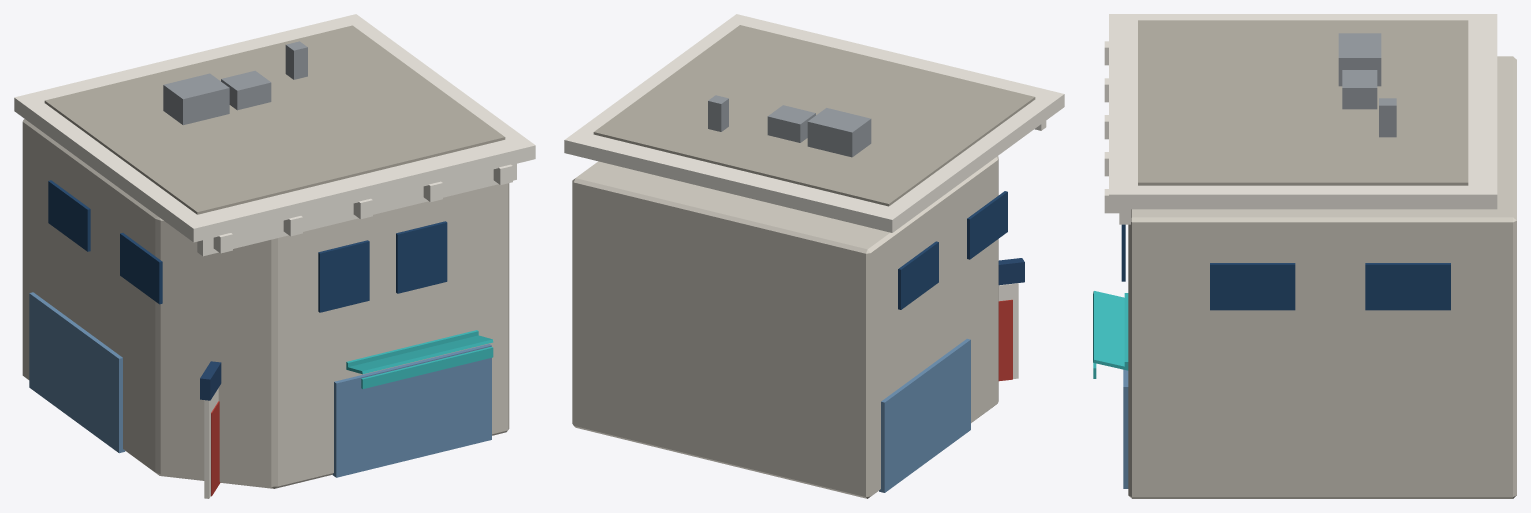
File: corner_w10_f2.glb
3 renders of one model, left to right at view 1: azimuth 30°, elevation 25°; view 2: azimuth 150°, elevation 25°; view 3: azimuth 270°, elevation 25°, orthographic. The views are drawn at different scales.
Parts seen in each view (by area): view 1: lwalls, roofslab, corn, shopf, shops, frieze, win, win.001, hvac, sb.002, sb, valance (+7 smaller); view 2: lwalls, roofslab, corn, shops, hvac, sb, sb.002, hvac2, cdoor, cfr, pipe, csign; view 3: lwalls, roofslab, corn, sb.003, sb.001, awn, hvac, hvac2, pipe, shopf.
Boxes of the visible parts, x1,y1,x2,y2 form: lwalls: [22, 119, 509, 488]; roofslab: [44, 25, 505, 214]; corn: [14, 14, 535, 242]; shopf: [332, 344, 491, 477]; shops: [29, 292, 125, 453]; frieze: [197, 163, 516, 256]; win: [318, 240, 369, 312]; win.001: [396, 221, 447, 293]; hvac: [163, 73, 229, 125]; sb.002: [48, 180, 90, 251]; sb: [120, 233, 162, 304]; valance: [361, 346, 493, 389]; lwalls: [572, 156, 998, 498]; roofslab: [593, 25, 1035, 206]; corn: [564, 14, 1064, 232]; shops: [879, 338, 970, 492]; hvac: [807, 108, 871, 157]; sb: [967, 191, 1007, 259]; sb.002: [898, 241, 938, 309]; hvac2: [767, 105, 815, 142]; cdoor: [998, 299, 1012, 381]; cfr: [998, 283, 1018, 378]; pipe: [708, 95, 728, 131]; csign: [998, 258, 1024, 285]; lwalls: [1128, 56, 1516, 498]; roofslab: [1138, 20, 1468, 185]; corn: [1109, 14, 1497, 209]; sb.003: [1365, 263, 1450, 310]; sb.001: [1210, 263, 1295, 310]; awn: [1093, 291, 1128, 370]; hvac: [1338, 33, 1381, 86]; hvac2: [1342, 70, 1377, 109]; pipe: [1379, 98, 1396, 137]; shopf: [1123, 369, 1128, 488].
Bounding box in the file's own units: 11 × 9.9 × 10.91.
